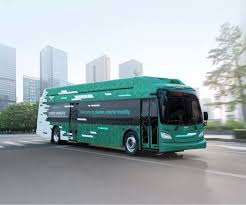bus: (34, 76, 209, 156)
